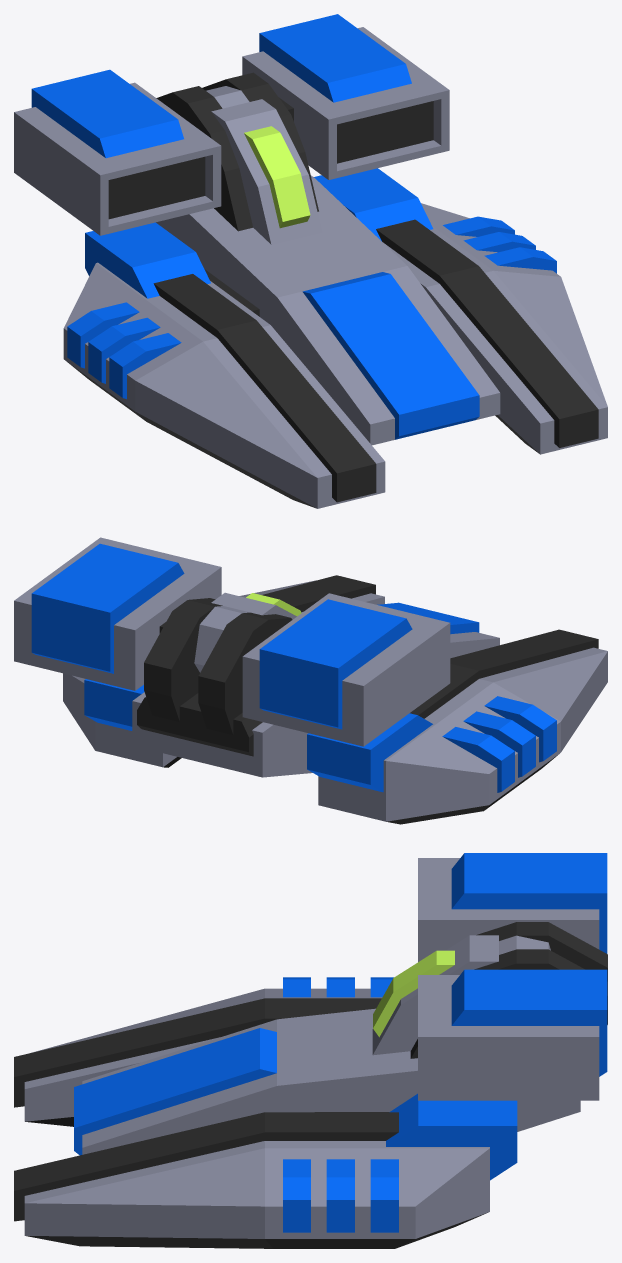
The model's file is Hovertank.fbx.
3 views of the same model, one above another, from view 1: azimuth 30°, elevation 25°; view 2: azimuth 150°, elevation 25°; view 3: azimuth 270°, elevation 25° (orthographic). The views are drawn at different scales.
Visible parts, largest first — view 1: Hovertank_Body.001, Hovertank_Body, Hovertank_Body.002, Hovertank_Turret_Pod.001, Hovertank_Turret_Pod, Hovertank_Turret; view 2: Hovertank_Body.001, Hovertank_Turret_Pod.001, Hovertank_Turret_Pod, Hovertank_Turret, Hovertank_Body, Hovertank_Body.002; view 3: Hovertank_Body.002, Hovertank_Body, Hovertank_Turret_Pod, Hovertank_Body.001, Hovertank_Turret_Pod.001, Hovertank_Turret.
Boxes of the visible parts, x1,y1,x2,y2 form: Hovertank_Body.001: (63,222,385,508); Hovertank_Body: (156,175,500,445); Hovertank_Body.002: (314,168,607,454); Hovertank_Turret_Pod.001: (14,69,221,235); Hovertank_Turret_Pod: (242,14,449,179); Hovertank_Turret: (156,72,321,244); Hovertank_Body.001: (307,629,607,824); Hovertank_Turret_Pod.001: (242,593,450,746); Hovertank_Turret_Pod: (14,537,221,690); Hovertank_Turret: (144,592,301,734); Hovertank_Body: (132,602,499,777); Hovertank_Body.002: (63,575,384,767); Hovertank_Body.002: (14,1093,517,1248); Hovertank_Body: (74,1008,580,1155); Hovertank_Turret_Pod: (418,969,607,1100); Hovertank_Body.001: (14,977,393,1126); Hovertank_Turret_Pod.001: (418,853,607,961); Hovertank_Turret: (372,922,607,1058).
Bounding box in the file's own units: 571 × 644 × 289.
